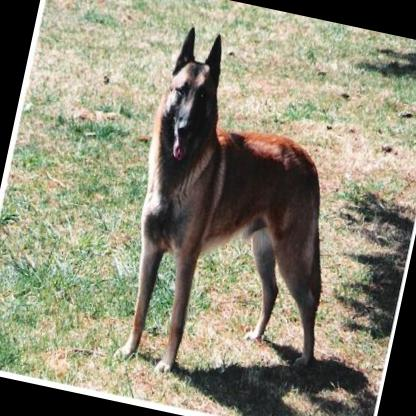malinois: (100, 17, 376, 404)
